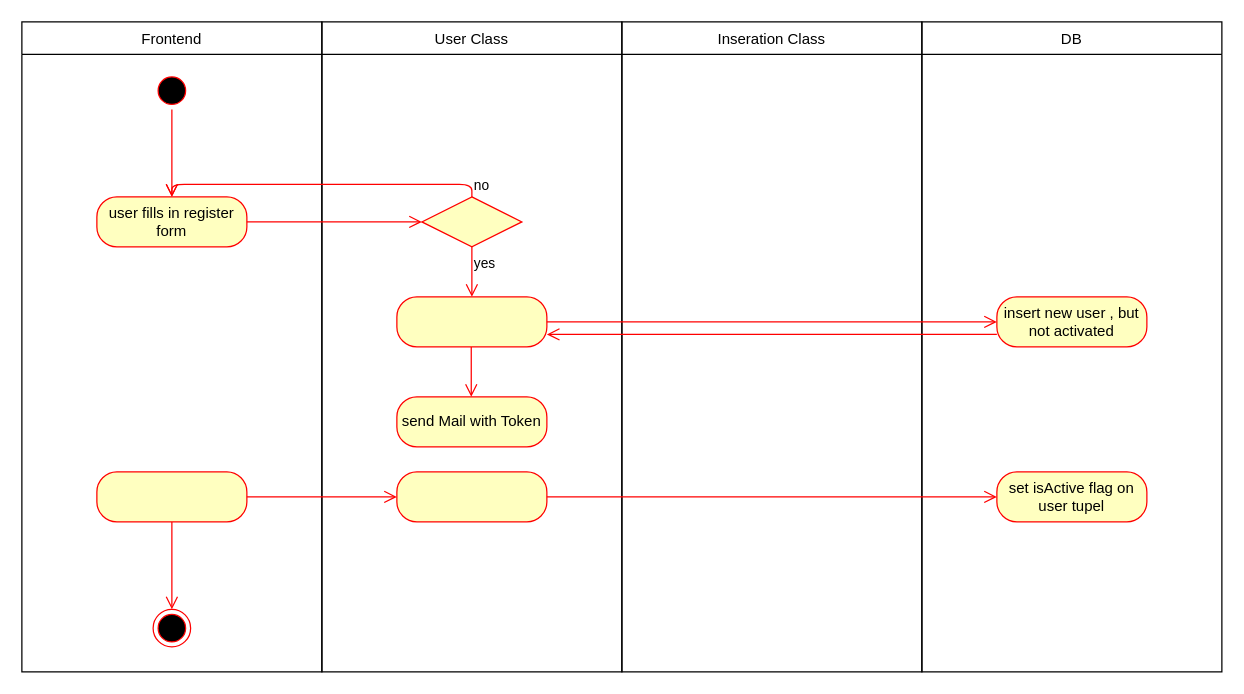
Image size: 1244x694. Some labels were removed from this diagram. Here are the shapes that lost their labels. From the top down, the centre of each, then its label:
(471,221): is form valid ?
(471,321): generate Token and Mail
(171,496): click on email verificaton link in personal mail
(471,496): activate user
